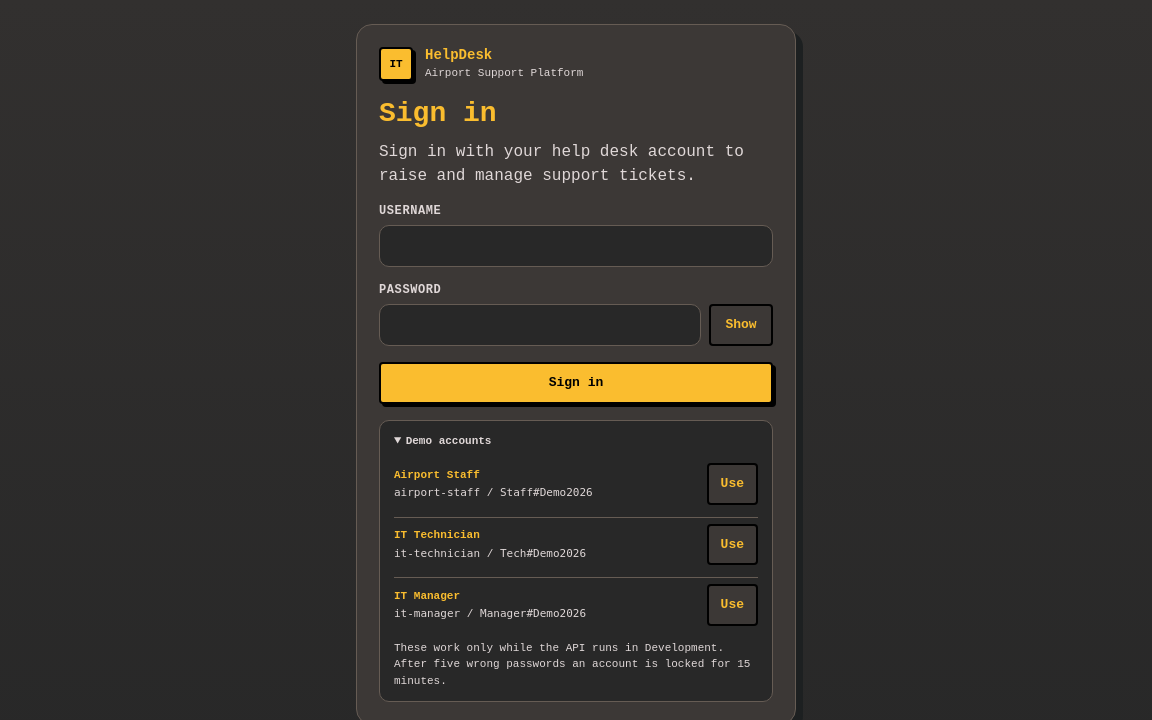
Test: Dashboard export — AC1 choosing what to export › EXP-C03 Breakdown by priority downloads /export/by-priority
This screenshot has width=1152, height=720.
Type "it-manager" into the field labelled "Username" at (576, 246), box [379,225,773,267]
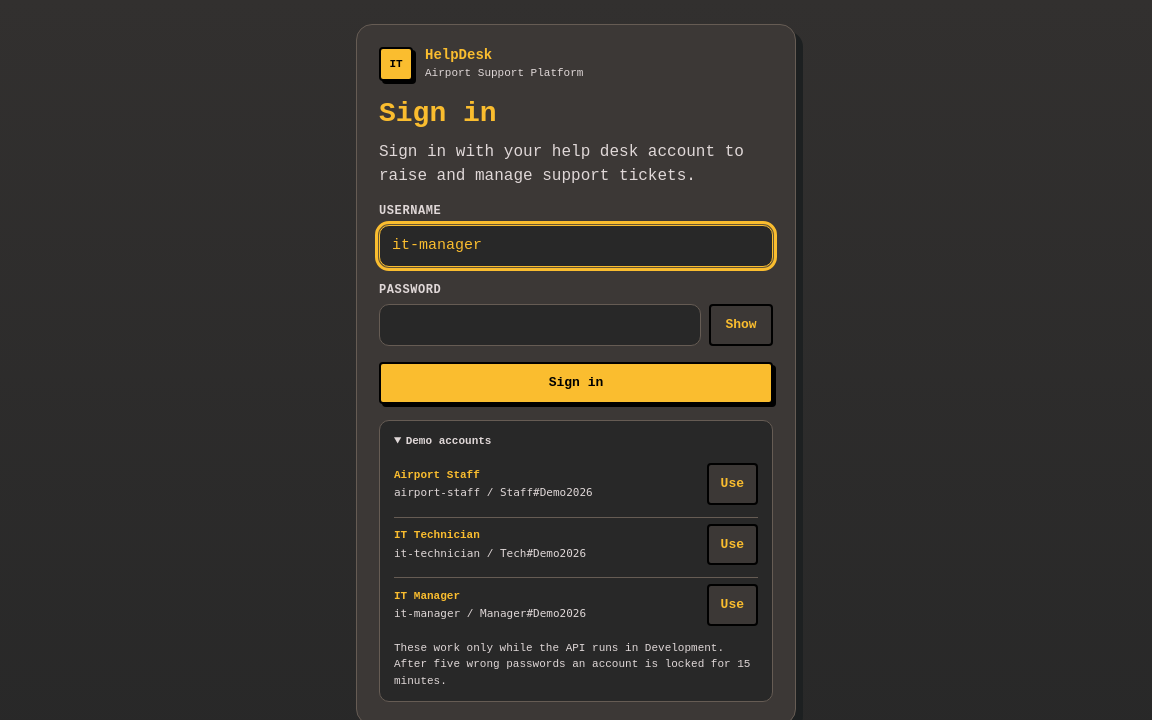
Type "any-password" into the password field labelled "Password" at (540, 325), box [379,304,701,346]
Then press Enter
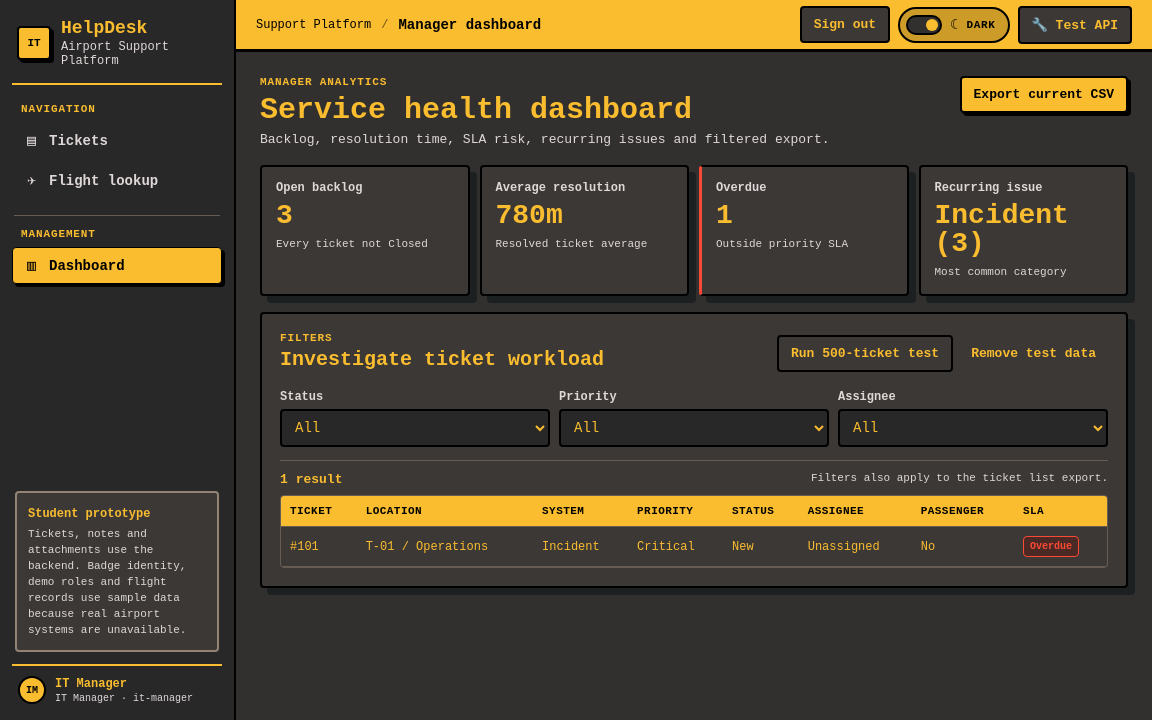
expect the heading "Service health dashboard" is shown: met, box [260,93,692,127]
Click the button "Export current CSV" at (1044, 94), box [960,76,1128,113]
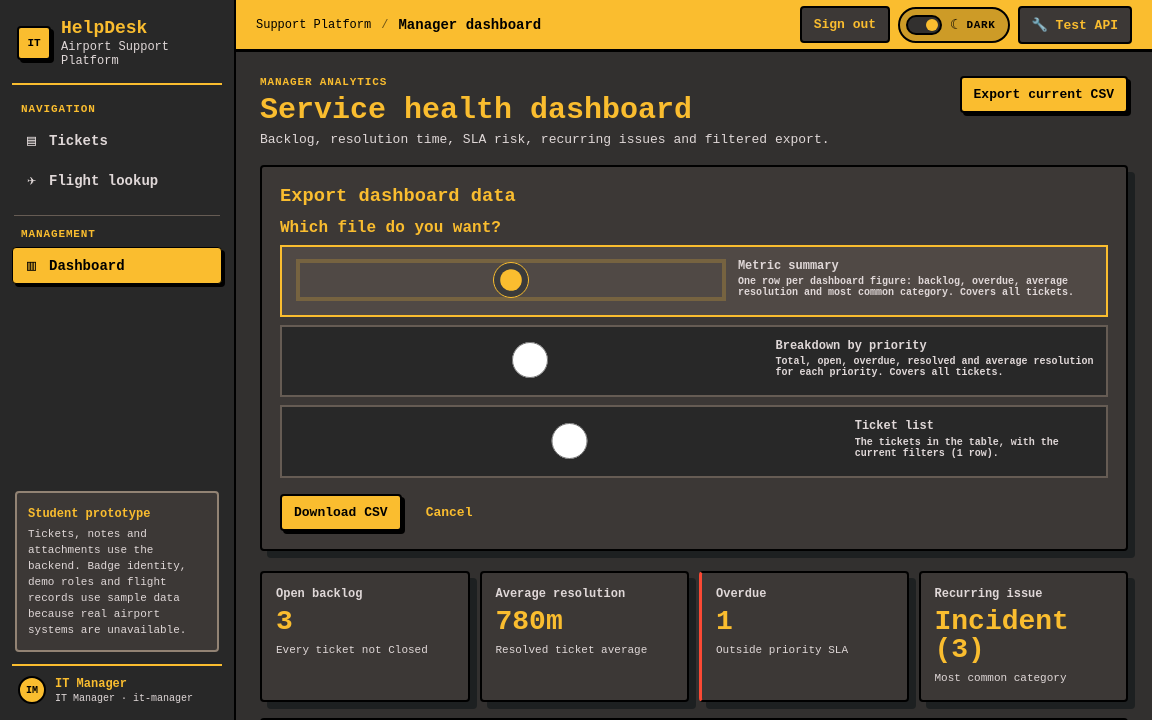
Click the radio button labelled "Breakdown by priority" at (530, 360), box [299,342,760,378]
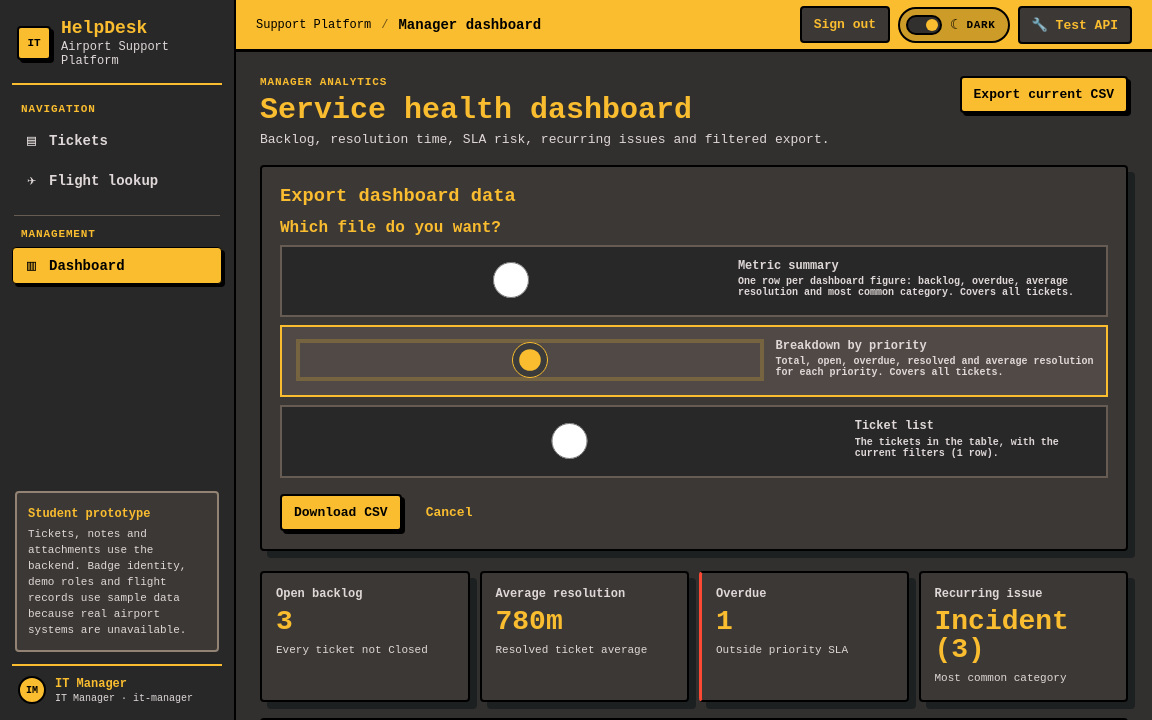
Click the button "Download CSV" at (341, 512), box [280,494,402,531]
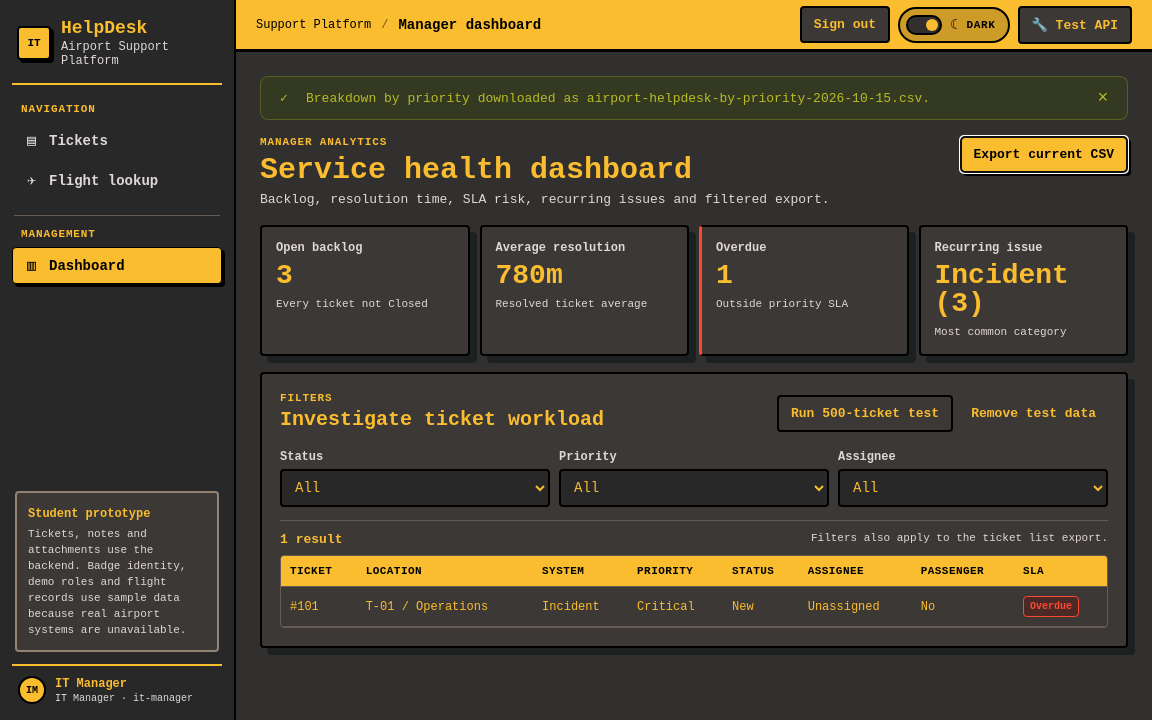
expect the text "Breakdown by priority downloaded" is shown: met, box [306,90,930,106]
